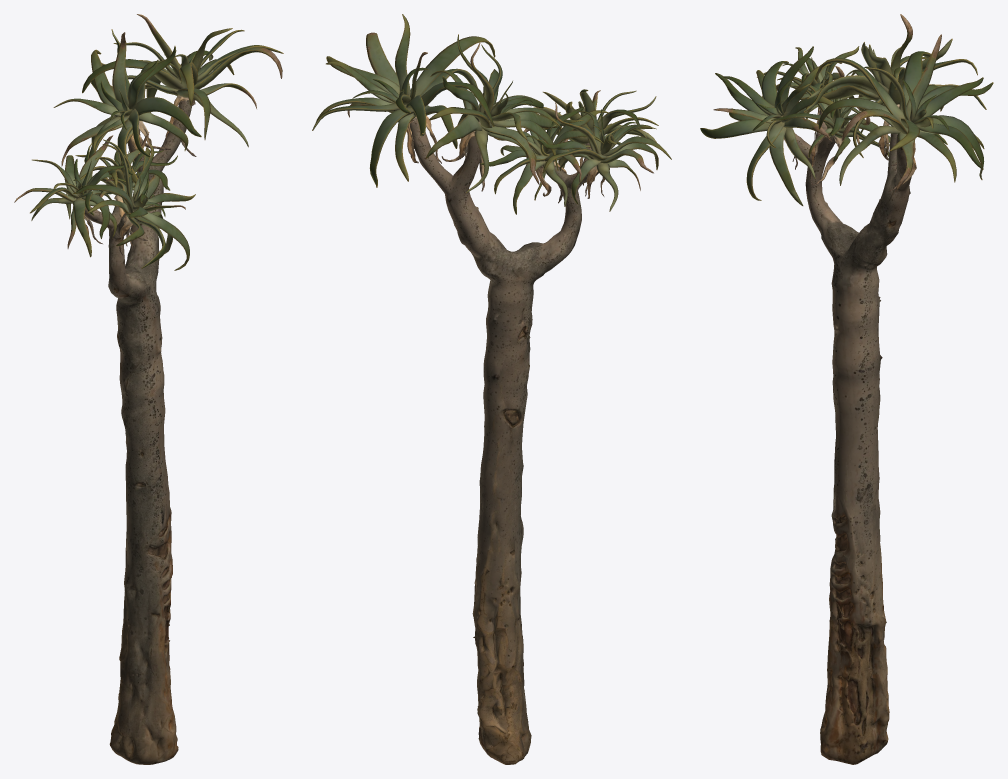
The model's file is cypress.glb.
3 views of the same model, side by side, from view 1: azimuth 30°, elevation 25°; view 2: azimuth 150°, elevation 25°; view 3: azimuth 270°, elevation 25° (orthographic). The views are drawn at different scales.
Visible parts, largest first — view 1: quiver_tree_01; view 2: quiver_tree_01; view 3: quiver_tree_01.
Part boxes in pixels (x1,y1,x2,y2): quiver_tree_01: (14, 14, 283, 764); quiver_tree_01: (312, 14, 671, 764); quiver_tree_01: (700, 14, 993, 764).
Size of the model in its own units: 1.18 by 2.72 by 0.9683.
Materials: 2 (2 with a texture image).
